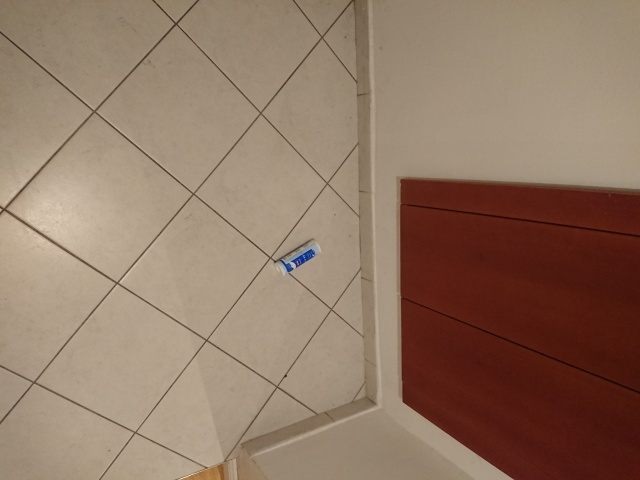Solana Pag Fine Sea Salt 250g: (272, 237, 324, 278)
